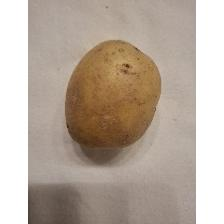Kartoffel: (64, 38, 166, 152)
